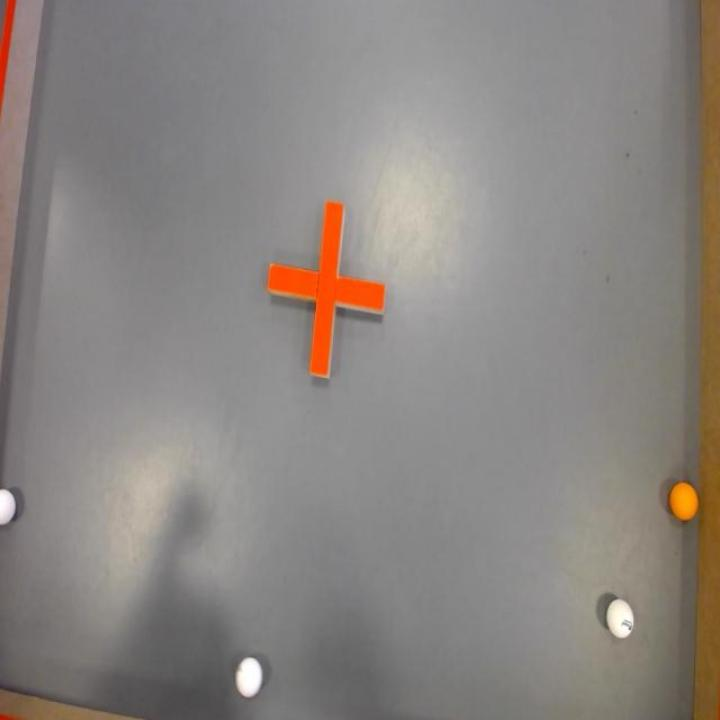orange: (664, 480, 702, 524)
white: (234, 651, 266, 701), (605, 596, 638, 644), (0, 484, 20, 528)
